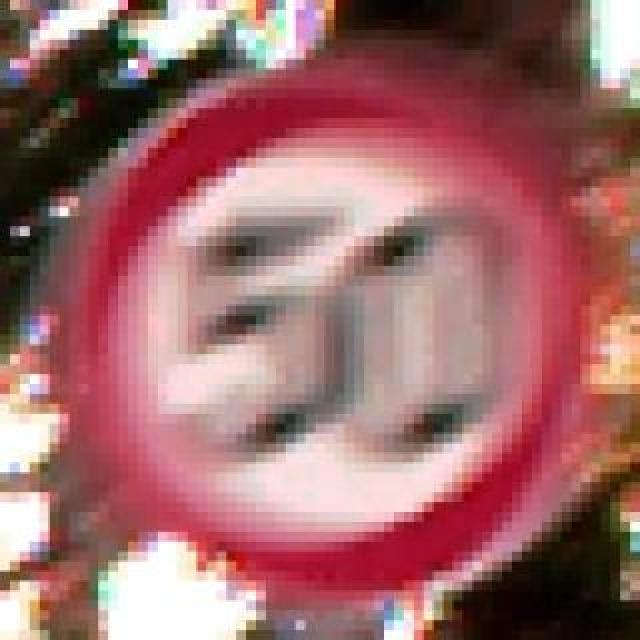50 kph: (50, 50, 572, 592)
